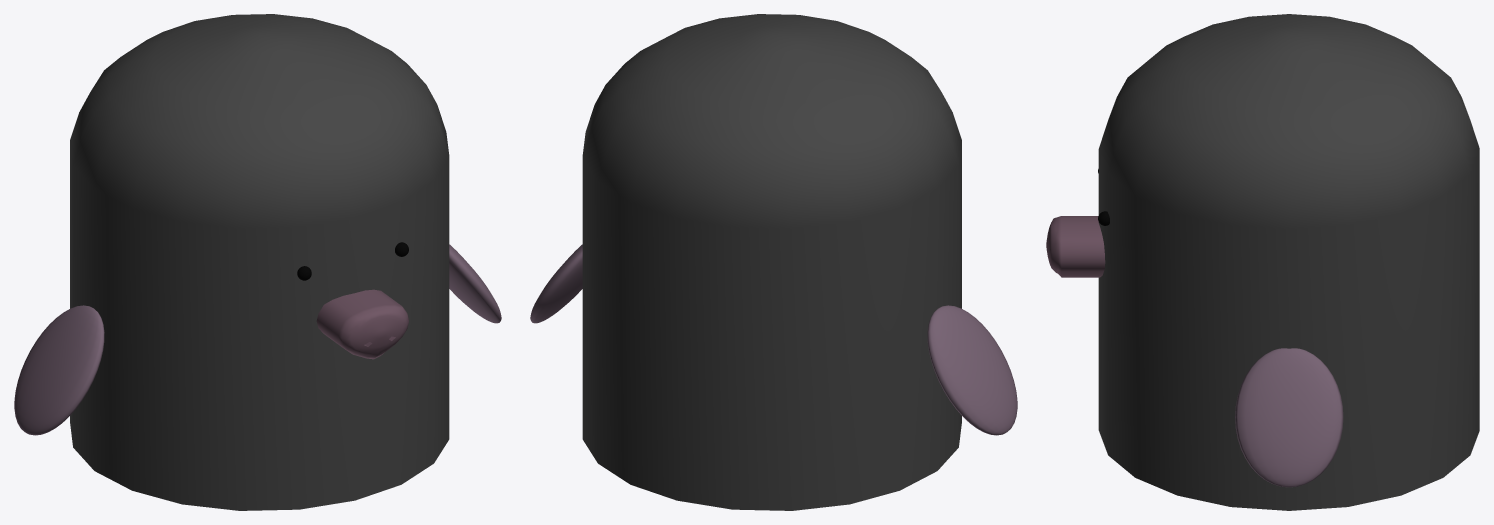
File: Mole 1.fbx
3 renders of one model, left to right at view 1: azimuth 30°, elevation 25°; view 2: azimuth 150°, elevation 25°; view 3: azimuth 270°, elevation 25°, orthographic.
Visible parts, largest first — view 1: Body, Right_Hand, Nose, Left_Hand; view 2: Body, Right_Hand, Left_Hand; view 3: Body, Left_Hand, Nose.
Boxes of the visible parts, x1,y1,x2,y2 form: Body: [70, 14, 449, 510]; Right_Hand: [14, 305, 104, 435]; Nose: [316, 289, 408, 359]; Left_Hand: [449, 244, 501, 323]; Body: [582, 14, 961, 510]; Right_Hand: [927, 305, 1017, 435]; Left_Hand: [530, 244, 582, 323]; Body: [1098, 14, 1479, 510]; Left_Hand: [1235, 348, 1343, 487]; Nose: [1046, 216, 1105, 277].
Size of the model in its own units: 516 by 416 by 413.
